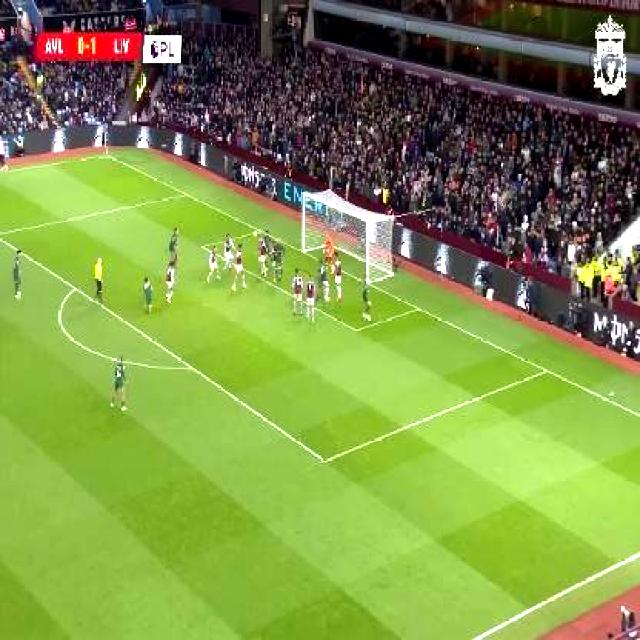bigarea_bottom_inner: (314, 446, 334, 472)
bigarea_bottom_outter: (538, 360, 554, 378)
bigarea_top_outter: (178, 186, 192, 202)
bottom_arc_area_intersection: (182, 356, 200, 378)
corner: (97, 148, 114, 162)
smallarea_bottom_inner: (348, 317, 363, 340)
smallarea_bottom_outter: (409, 298, 426, 317)
smallarea_top_inner: (194, 237, 209, 255)
smallarea_top_outter: (251, 222, 266, 238)
top_arc_area_intersection: (66, 275, 83, 297)
